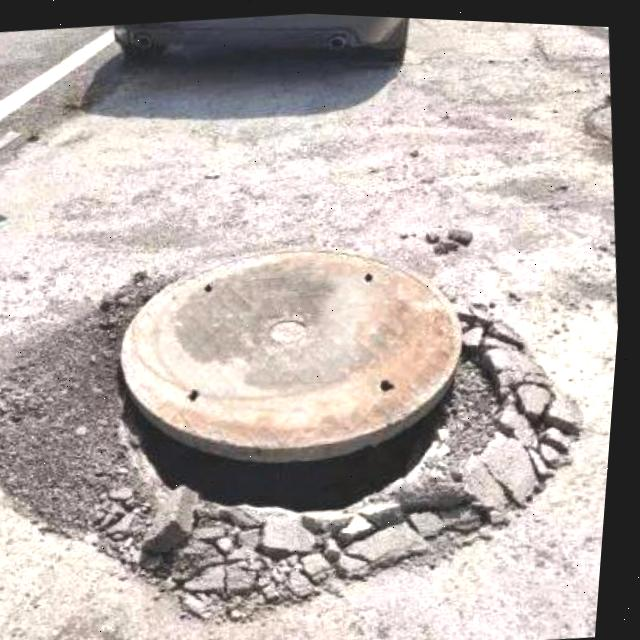manhole: (88, 210, 519, 567)
